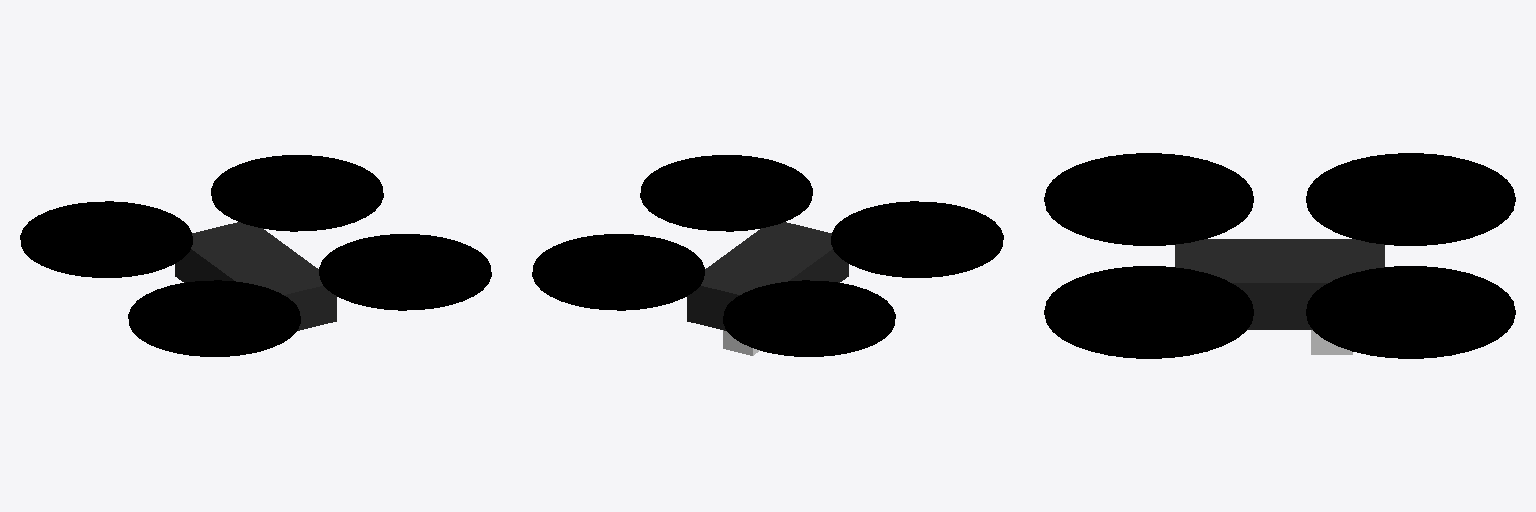
URDF robot description (drone):
<?xml version="1.0" ?>
<!-- =================================================================================== -->
<!-- |    This document was autogenerated by xacro from primitive_drone/drone.xacro    | -->
<!-- |    EDITING THIS FILE BY HAND IS NOT RECOMMENDED                                 | -->
<!-- =================================================================================== -->
<robot name="drone">
  <material name="black">
    <color rgba="0.0 0.0 0.0 1.0"/>
  </material>
  <material name="blue">
    <color rgba="0.0 0.0 0.8 1.0"/>
  </material>
  <material name="green">
    <color rgba="0.0 0.8 0.0 1.0"/>
  </material>
  <material name="grey">
    <color rgba="0.2 0.2 0.2 1.0"/>
  </material>
  <material name="orange">
    <color rgba="1.0 0.4235294117647059 0.0392156862745098 1.0"/>
  </material>
  <material name="brown">
    <color rgba="0.8705882352941177 0.8117647058823529 0.7647058823529411 1.0"/>
  </material>
  <material name="red">
    <color rgba="0.8 0.0 0.0 1.0"/>
  </material>
  <material name="white">
    <color rgba="1.0 1.0 1.0 1.0"/>
  </material>
  <!-- #region XACRO_MACROS -->
  <!-- #endregion -->
  <!-- #endregion -->
  <!-- #endregion -->
  <!-- #endregion -->
  <!-- ROBOT BEGINS HERE -->
  <!-- ROBOT BEGINS HERE -->
  <!-- ROBOT BEGINS HERE -->
  <!-- #region BASE -->
  <link name="base_link">
    <visual>
      <origin rpy="0 0 0" xyz="0 0 0"/>
      <geometry>
        <box size="0.2 0.4 0.1"/>
      </geometry>
      <material name="grey"/>
    </visual>
    <collision>
      <origin rpy="0 0 0" xyz="0 0 0"/>
      <geometry>
        <box size="0.2 0.4 0.1"/>
      </geometry>
    </collision>
    <inertial>
      <mass value="0.05"/>
      <inertia ixx="0.00020833333333333337" ixy="0" ixz="0" iyy="0.0008333333333333335" iyz="0" izz="0.0007083333333333335"/>
    </inertial>
  </link>
  <!-- #endregion -->
  <!-- #region propS -->
  <!-- #region FRONT_LEFT_prop -->
  <link name="front_left_prop">
    <visual>
      <origin rpy="0 0 0" xyz="0.0051 0 0"/>
      <geometry>
        <cylinder length="0.01" radius="0.2"/>
      </geometry>
      <material name="black"/>
    </visual>
    <collision>
      <origin rpy="0 0 0" xyz="0.0051 0 0"/>
      <geometry>
        <cylinder length="0.01" radius="0.01"/>
      </geometry>
    </collision>
    <inertial>
      <mass value="0.05"/>
      <inertia ixx="0.0005004166666666668" ixy="0" ixz="0" iyy="0.0005004166666666668" iyz="0" izz="0.0010000000000000002"/>
    </inertial>
  </link>
  <joint name="base_to_front_left_prop" type="fixed">
    <parent link="base_link"/>
    <child link="front_left_prop"/>
    <!-- joint of child is xyz away from parent -->
    <origin xyz="0.25 0.25 0.060000000000000005"/>
    <axis xyz="1 0 0"/>
  </joint>
  <!-- #endregion -->
  <!-- #region FRONT_RIGHT_prop -->
  <link name="front_right_prop">
    <visual>
      <origin rpy="0 0 0" xyz="0.0051 0 0"/>
      <geometry>
        <cylinder length="0.01" radius="0.2"/>
      </geometry>
      <material name="black"/>
    </visual>
    <collision>
      <origin rpy="0 0 0" xyz="0.0051 0 0"/>
      <geometry>
        <cylinder length="0.01" radius="0.01"/>
      </geometry>
    </collision>
    <inertial>
      <mass value="0.05"/>
      <inertia ixx="0.0005004166666666668" ixy="0" ixz="0" iyy="0.0005004166666666668" iyz="0" izz="0.0010000000000000002"/>
    </inertial>
  </link>
  <joint name="base_to_front_right_prop" type="fixed">
    <parent link="base_link"/>
    <child link="front_right_prop"/>
    <!-- joint of child is xyz away from parent -->
    <origin xyz="0.25 -0.25 0.060000000000000005"/>
    <axis xyz="1 0 0"/>
  </joint>
  <!-- #endregion -->
  <!-- #region BACK_LEFT_prop -->
  <link name="back_left_prop">
    <visual>
      <origin rpy="0 0 0" xyz="-0.0051 0 0"/>
      <geometry>
        <cylinder length="0.01" radius="0.2"/>
      </geometry>
      <material name="black"/>
    </visual>
    <collision>
      <origin rpy="0 0 0" xyz="-0.0051 0 0"/>
      <geometry>
        <cylinder length="0.01" radius="0.01"/>
      </geometry>
    </collision>
    <inertial>
      <mass value="0.05"/>
      <inertia ixx="0.0005004166666666668" ixy="0" ixz="0" iyy="0.0005004166666666668" iyz="0" izz="0.0010000000000000002"/>
    </inertial>
  </link>
  <joint name="base_to_back_left_prop" type="fixed">
    <parent link="base_link"/>
    <child link="back_left_prop"/>
    <!-- joint of child is xyz away from parent -->
    <origin xyz="-0.25 0.25 0.060000000000000005"/>
    <axis xyz="1 0 0"/>
  </joint>
  <!-- #endregion -->
  <!-- #region BACK_RIGHT_prop -->
  <link name="back_right_prop">
    <visual>
      <origin rpy="0 0 0" xyz="-0.0051 0 0"/>
      <geometry>
        <cylinder length="0.01" radius="0.2"/>
      </geometry>
      <material name="black"/>
    </visual>
    <collision>
      <origin rpy="0 0 0" xyz="-0.0051 0 0"/>
      <geometry>
        <cylinder length="0.01" radius="0.01"/>
      </geometry>
    </collision>
    <inertial>
      <mass value="0.05"/>
      <inertia ixx="0.0005004166666666668" ixy="0" ixz="0" iyy="0.0005004166666666668" iyz="0" izz="0.0010000000000000002"/>
    </inertial>
  </link>
  <joint name="base_to_back_right_prop" type="fixed">
    <parent link="base_link"/>
    <child link="back_right_prop"/>
    <!-- joint of child is xyz away from parent -->
    <origin xyz="-0.25 -0.25 0.060000000000000005"/>
    <axis xyz="1 0 0"/>
  </joint>
  <!-- #endregion -->
  <!-- #endregion -->
  <!-- #region CAMERA -->
  <link name="camera">
    <visual>
      <origin rpy="0 0 0" xyz="0 0 0.04"/>
      <geometry>
        <box size="0.08 0.08 0.08"/>
      </geometry>
      <material name="white"/>
    </visual>
    <collision>
      <origin rpy="0 0 0" xyz="0 0 0.04"/>
      <geometry>
        <box size="0.08 0.08 0.08"/>
      </geometry>
    </collision>
    <inertial>
      <mass value="0"/>
      <inertia ixx="0.0" ixy="0" ixz="0" iyy="0.0" iyz="0" izz="0.0"/>
    </inertial>
  </link>
  <joint name="base_to_camera" type="fixed">
    <axis xyz="0 0.04 0"/>
    <origin rpy="0 0 1.57" xyz="0 0.1 -0.13"/>
    <parent link="base_link"/>
    <child link="camera"/>
  </joint>
  <!-- #endregion -->
</robot>

--- Facts derived from the render (not from the file) ---
Views: 3 orthographic renders of the robot side by side, from view 1: azimuth 30°, elevation 25°; view 2: azimuth 150°, elevation 25°; view 3: azimuth 270°, elevation 25°.
Model drone with 6 links and 5 joints (5 fixed), rooted at base_link, posed every joint at zero.
Visible links, largest first — view 1: front_left_prop, front_right_prop, back_left_prop, back_right_prop, base_link; view 2: front_left_prop, front_right_prop, back_left_prop, back_right_prop, base_link; view 3: front_left_prop, front_right_prop, back_left_prop, back_right_prop, base_link, camera.
Boxes of the visible links, <box> form: front_left_prop: <box>211,155,383,231</box>; front_right_prop: <box>319,234,491,310</box>; back_left_prop: <box>20,201,192,277</box>; back_right_prop: <box>128,280,300,356</box>; base_link: <box>175,222,336,330</box>; front_left_prop: <box>532,234,704,310</box>; front_right_prop: <box>640,155,812,231</box>; back_left_prop: <box>723,280,895,356</box>; back_right_prop: <box>831,201,1003,277</box>; base_link: <box>687,222,848,330</box>; front_left_prop: <box>1306,266,1515,358</box>; front_right_prop: <box>1044,266,1253,358</box>; back_left_prop: <box>1306,153,1515,245</box>; back_right_prop: <box>1044,153,1253,245</box>; base_link: <box>1175,239,1384,329</box>; camera: <box>1311,330,1352,354</box>.
Bounding box of the posed robot: 0.9102 × 0.9 × 0.195 m (x, y, z).
Geometry: primitives only (box / cylinder / sphere), no mesh files.